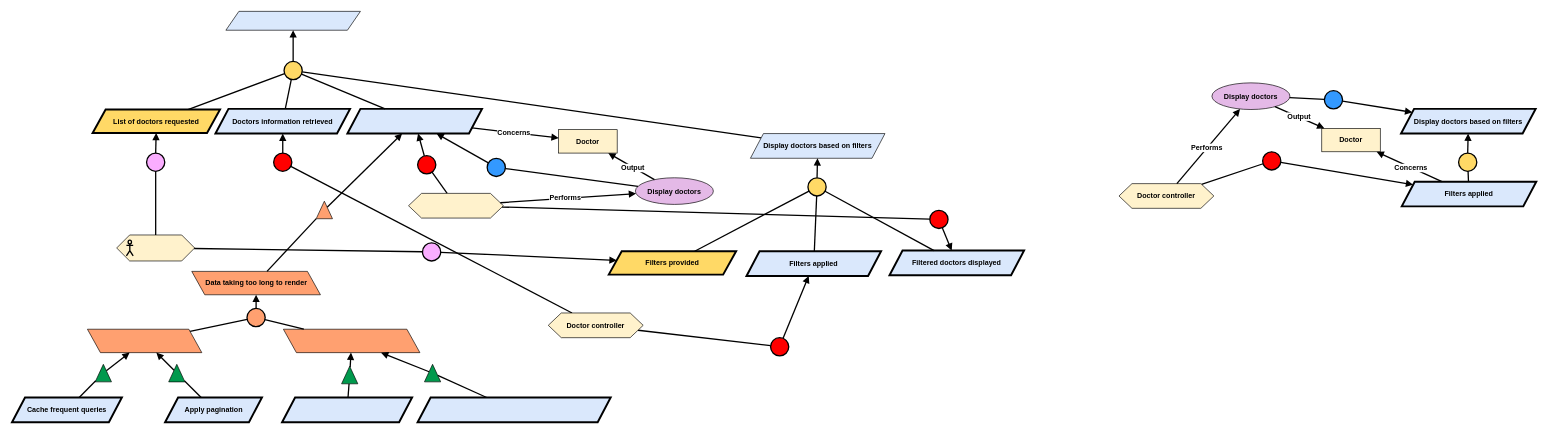
This 1548x434 diagram has some shape labels left out. Each missing label, with the box of its shape:
Asynchronous load of images: (281, 396, 413, 423)
Blob Storage image retrieve time: (283, 329, 420, 353)
DB query processing time: (87, 329, 202, 353)
Display default sample image until data arrives: (416, 396, 611, 423)
Doctors displayed: (346, 108, 483, 134)
Interface Controller: (408, 193, 503, 218)
Patient: (116, 234, 195, 261)
See list of doctors: (225, 11, 360, 30)
